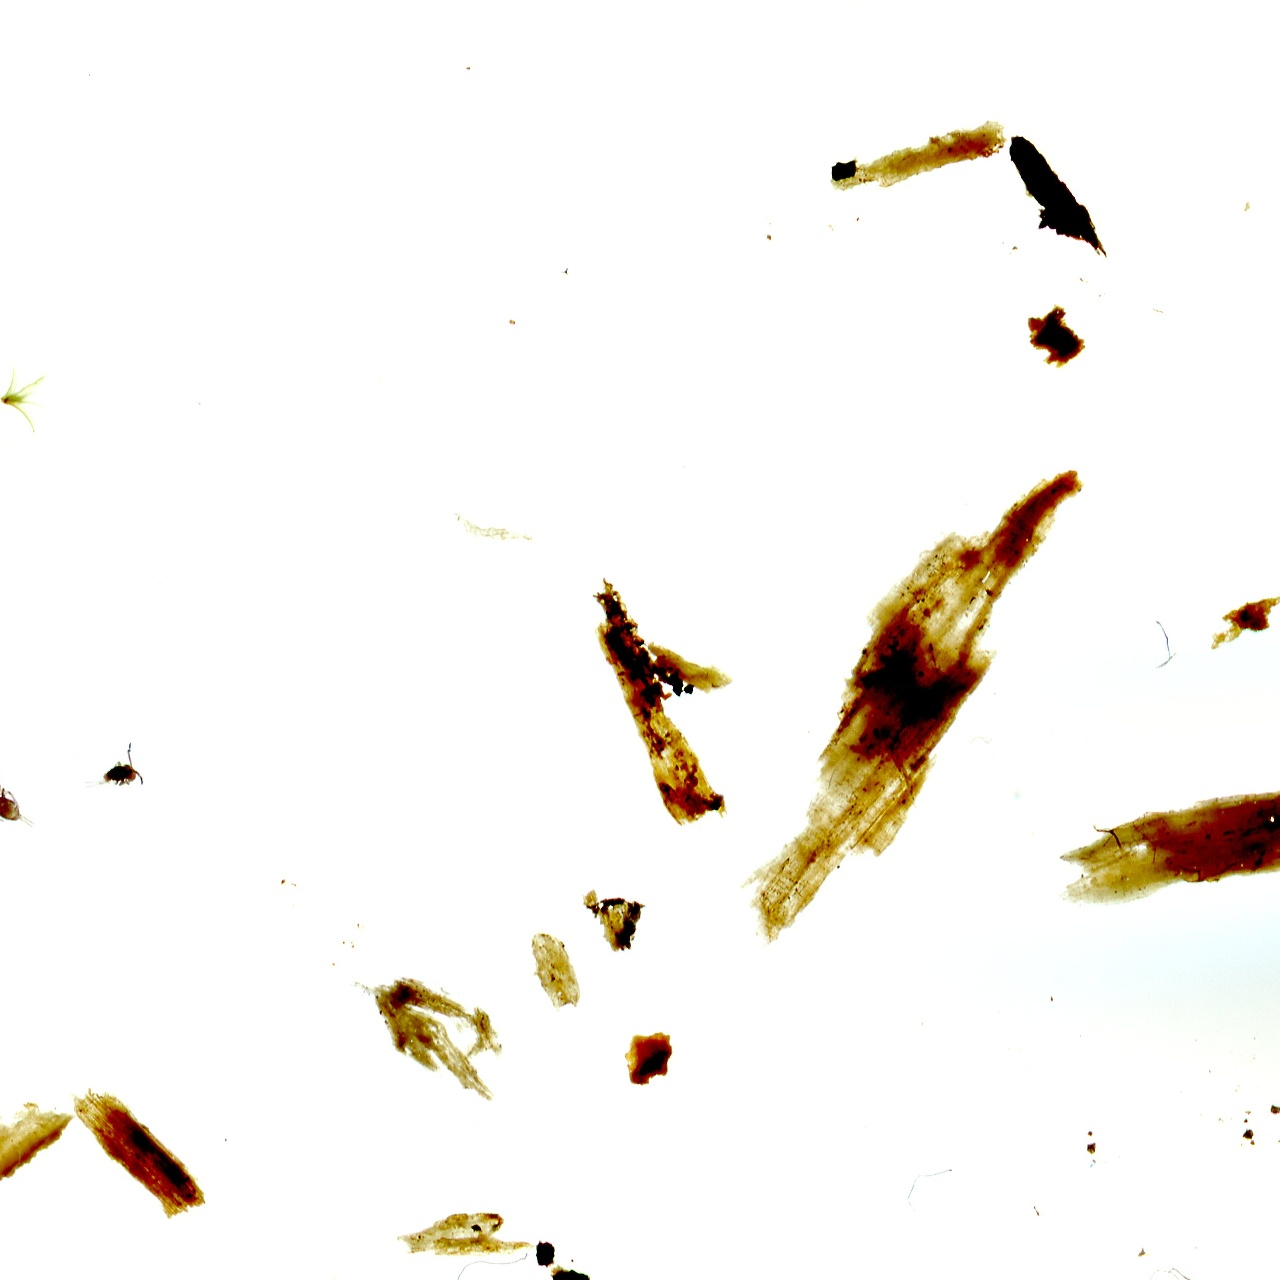arthropod: (80, 735, 148, 794), (0, 769, 38, 831)
